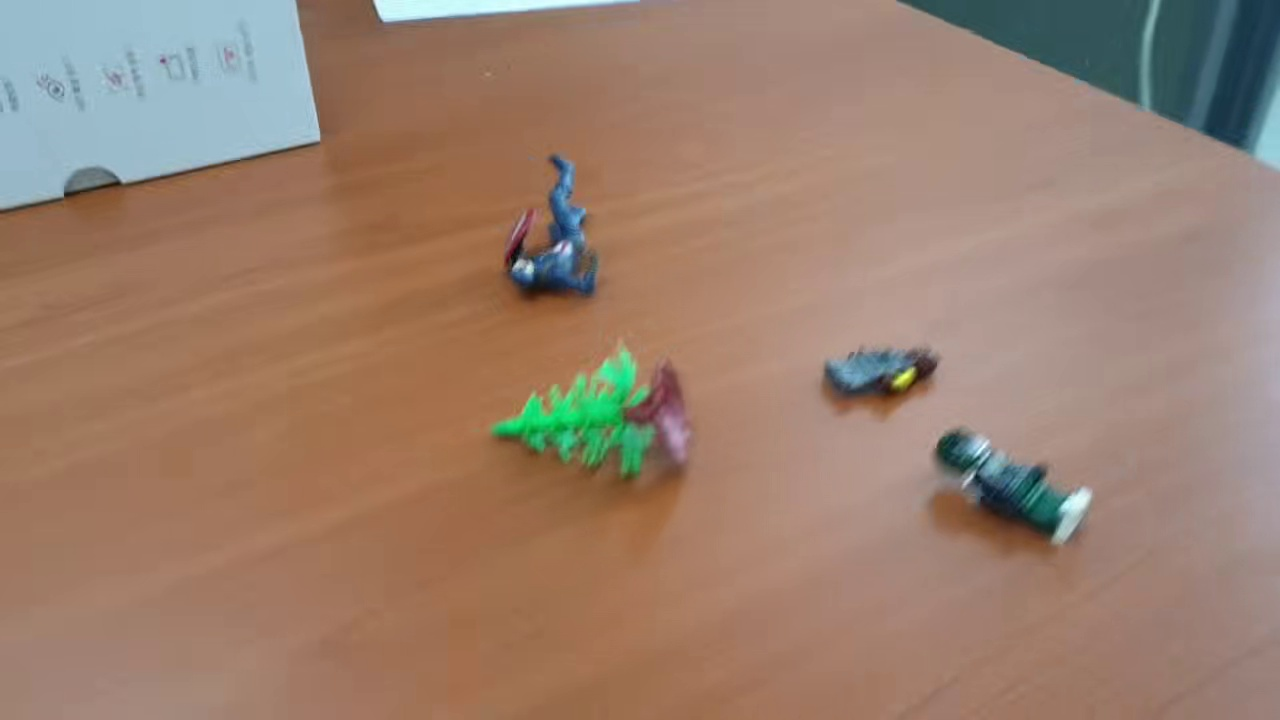people: (937, 424, 1091, 547), (500, 152, 598, 302), (825, 341, 939, 404)
tree: (486, 339, 694, 479)
